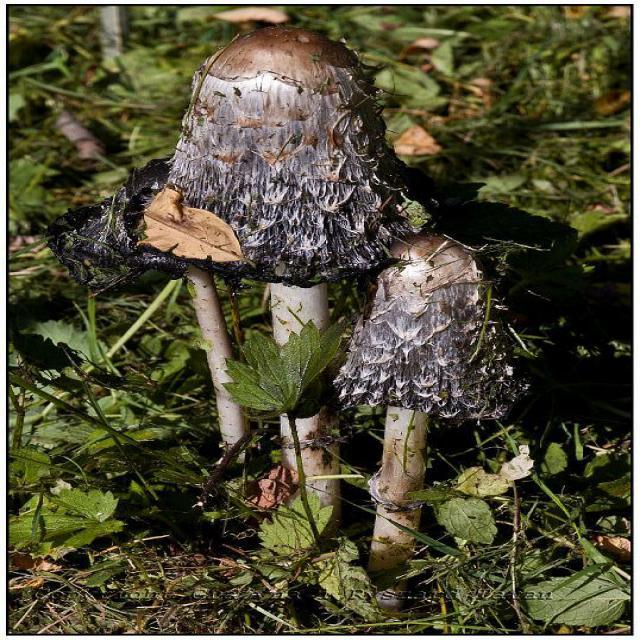Coprinus comatus: (136, 30, 390, 484), (330, 234, 525, 530)
